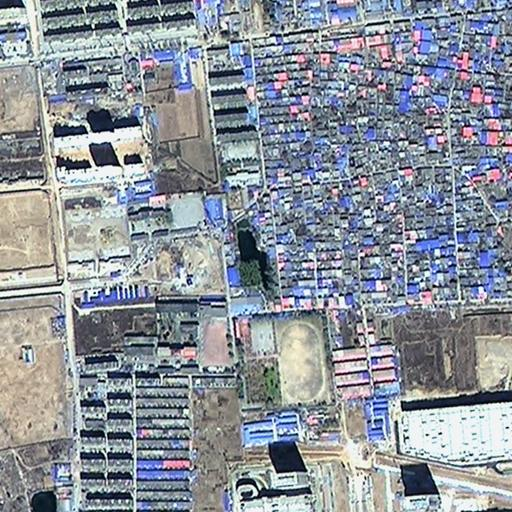school: (152, 297, 332, 408), (124, 190, 208, 238)
